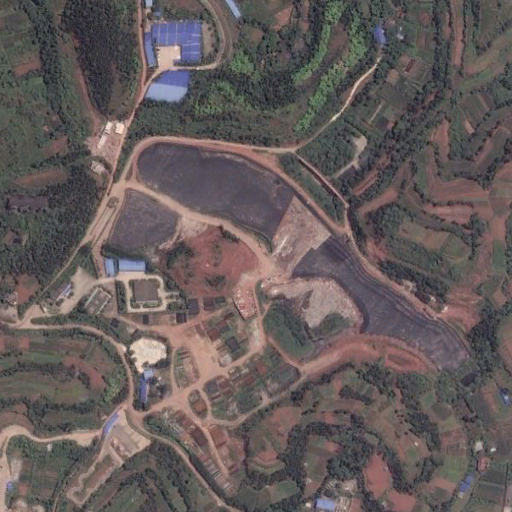lf: (107, 137, 470, 377)
